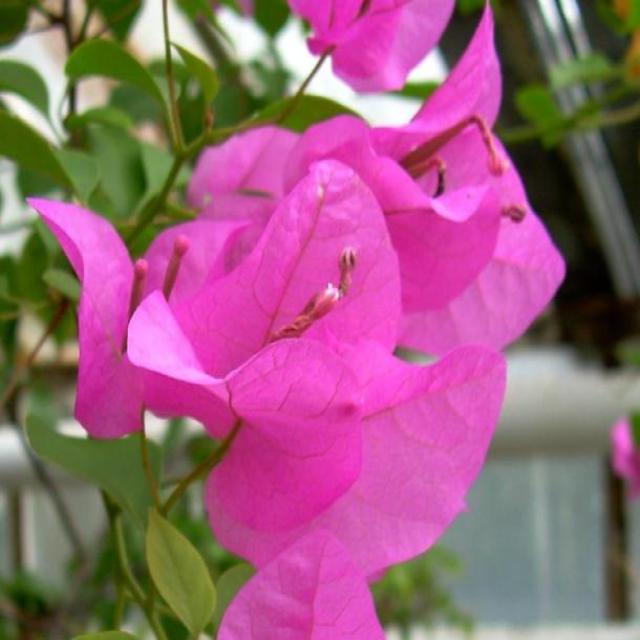bougainvillea: (35, 15, 640, 634)
